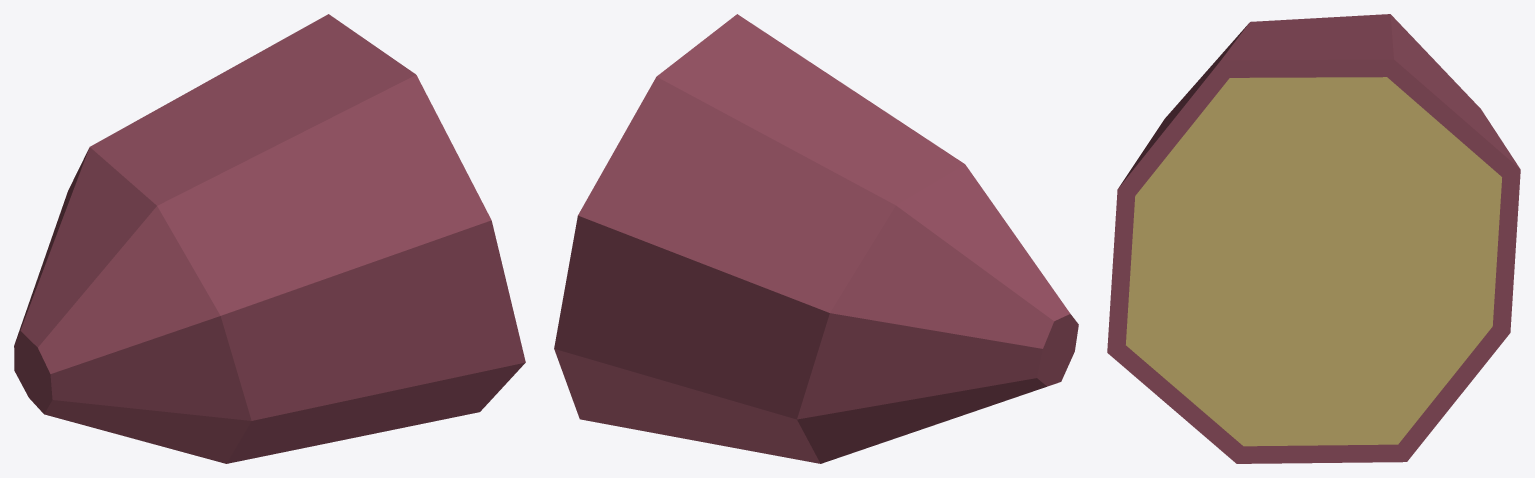
The model's file is sweetPotatoCut01.fbx.
3 renders of one model, left to right at view 1: azimuth 30°, elevation 25°; view 2: azimuth 150°, elevation 25°; view 3: azimuth 270°, elevation 25°, orthographic. The views are drawn at different scales.
Parts seen in each view (by area): view 1: sweetPotatoCut01; view 2: sweetPotatoCut01; view 3: sweetPotatoCut01.
Part boxes in pixels (x1,y1,x2,y2): sweetPotatoCut01: [14, 14, 525, 463]; sweetPotatoCut01: [554, 14, 1078, 463]; sweetPotatoCut01: [1107, 14, 1520, 463].
Size of the model in its own units: 8 by 6.45 by 6.53.
1 material, 1 textured.
